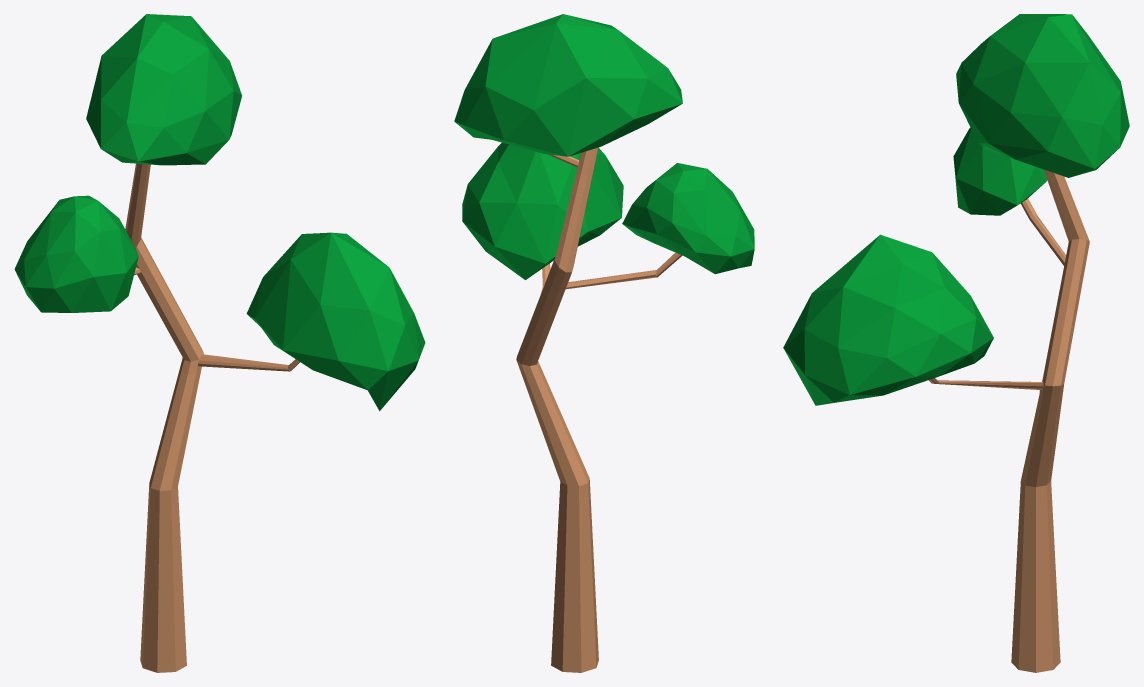
Rendered from darktree2.glb.
The picture shows the model from 3 angles, left to right: view 1: azimuth 30°, elevation 25°; view 2: azimuth 150°, elevation 25°; view 3: azimuth 270°, elevation 25°; orthographic projection. The views are drawn at different scales.
Visible parts, largest first — view 1: Icosphere, Icosphere.002, Cylinder, Icosphere.001; view 2: Icosphere.002, Cylinder, Icosphere, Icosphere.001; view 3: Icosphere, Icosphere.002, Cylinder, Icosphere.001.
Boxes of the visible parts, x1,y1,x2,y2 form: Icosphere: [246, 232, 425, 411]; Icosphere.002: [86, 14, 241, 165]; Cylinder: [125, 163, 299, 672]; Icosphere.001: [14, 195, 138, 312]; Icosphere.002: [454, 14, 682, 156]; Cylinder: [516, 147, 682, 672]; Icosphere: [462, 142, 623, 279]; Icosphere.001: [622, 163, 754, 274]; Icosphere: [783, 234, 993, 405]; Icosphere.002: [956, 14, 1129, 177]; Cylinder: [928, 169, 1089, 672]; Icosphere.001: [953, 127, 1047, 215].
Size of the model in its own units: 5.73 by 10.64 by 5.15.
